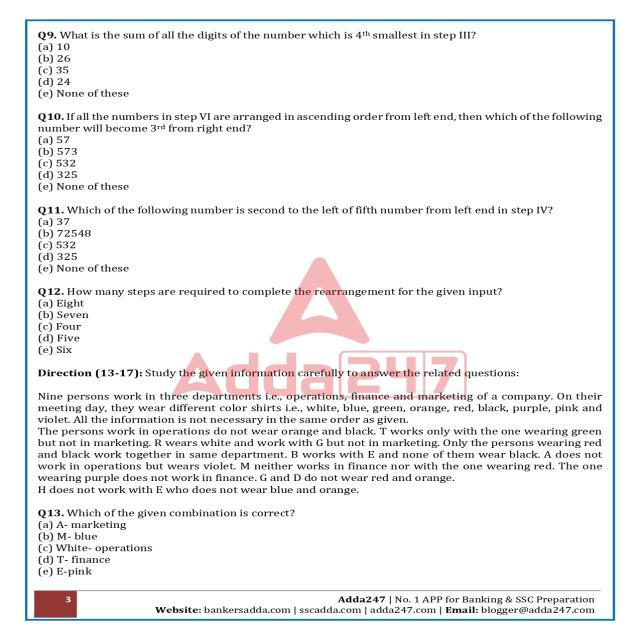Answer_Block: (25, 300, 618, 359), (26, 520, 612, 579), (25, 133, 616, 190), (20, 42, 612, 98), (29, 218, 610, 274)
Instruction: (24, 362, 612, 508)
Question_Answer_Block: (26, 106, 614, 190), (22, 26, 610, 100), (27, 204, 614, 274), (23, 510, 616, 579), (25, 288, 616, 357)
Question_Block: (27, 109, 612, 133), (22, 205, 615, 218), (20, 30, 617, 42), (24, 288, 617, 300), (24, 510, 612, 520)
Question_Paper_Area: (27, 30, 614, 591)
